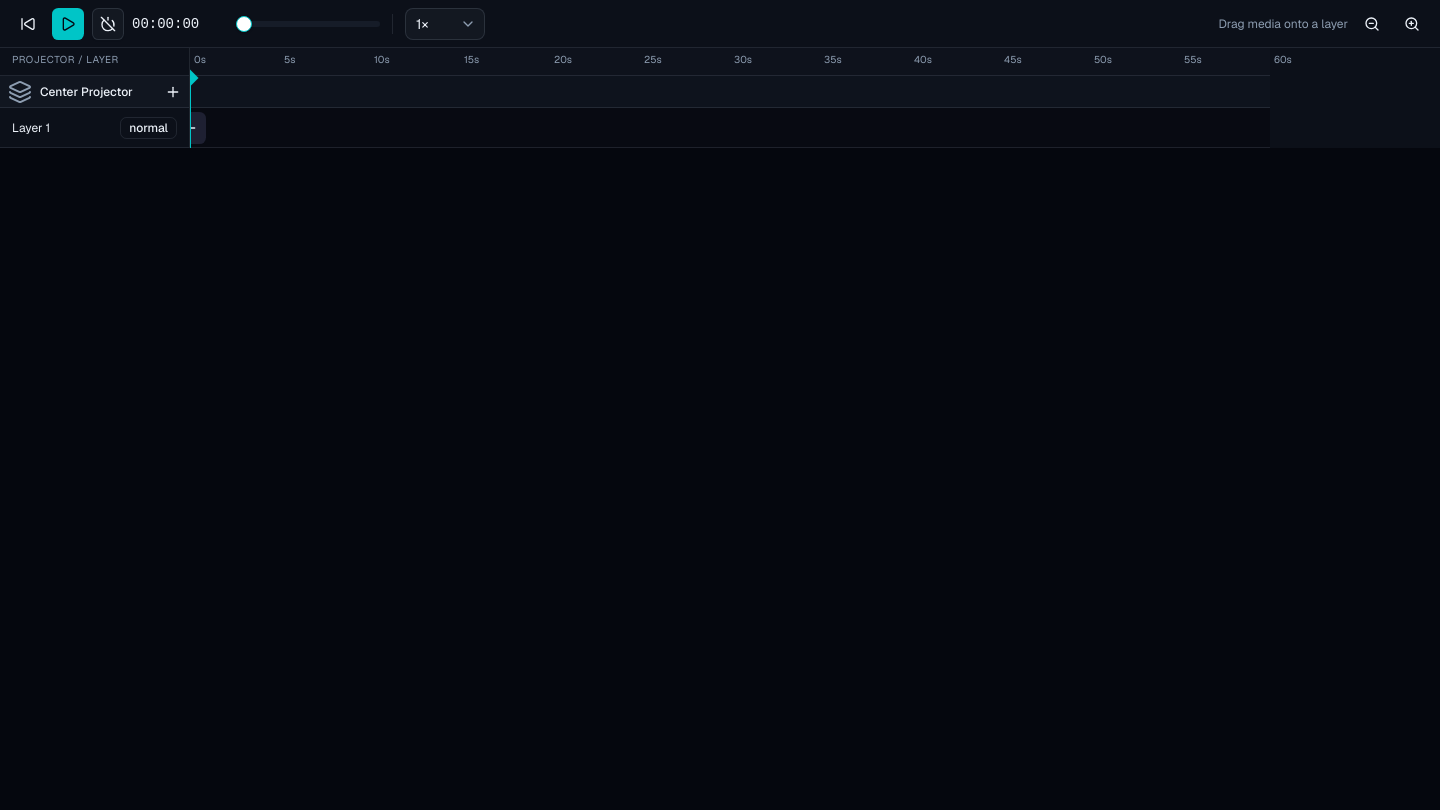
opens a media picker from empty timeline space
The image size is (1440, 810).
Expected: the dropdown named "Playback speed" is shown, [405, 8, 485, 40]
What coordinates should you click on to do the following:
click the button named "Add media to Layer 1 at"
I would click on:
 (190, 128)
Its box is [174, 112, 206, 144].
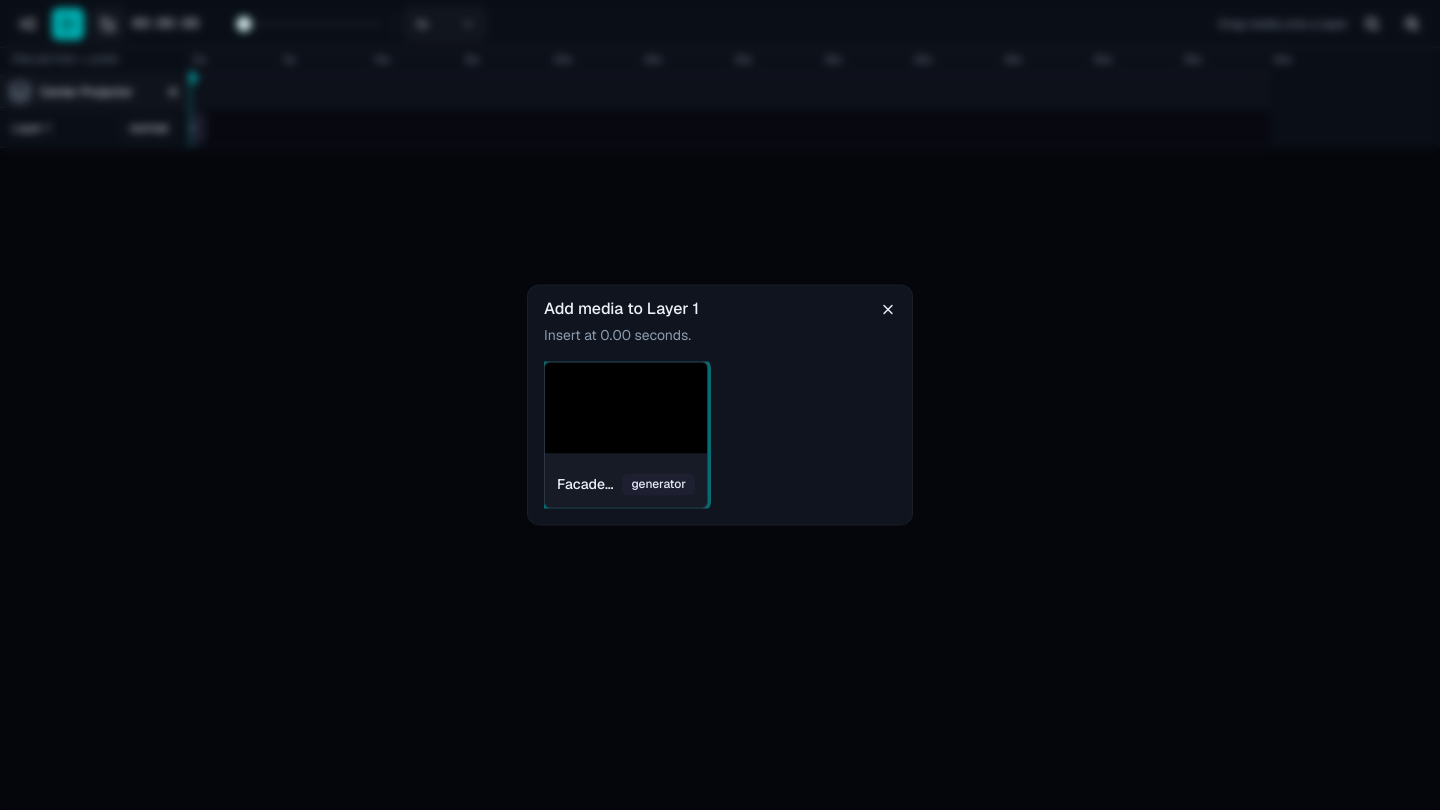
Expected: the dialog is shown, [528, 285, 912, 524]
Expected: the button "Facade Loop generator" is shown, [544, 361, 708, 508]
Expected: the element with test id "media-picker-preview-11" is shown, [545, 362, 707, 454]
